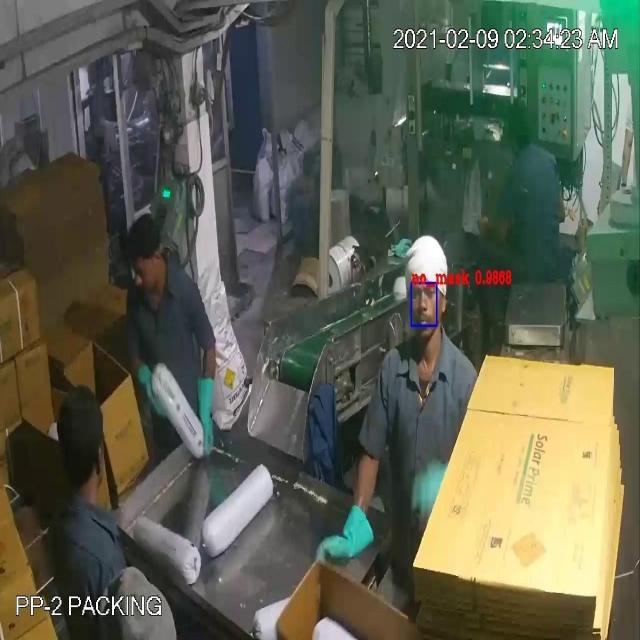Gloves: (38, 80, 342, 532)
